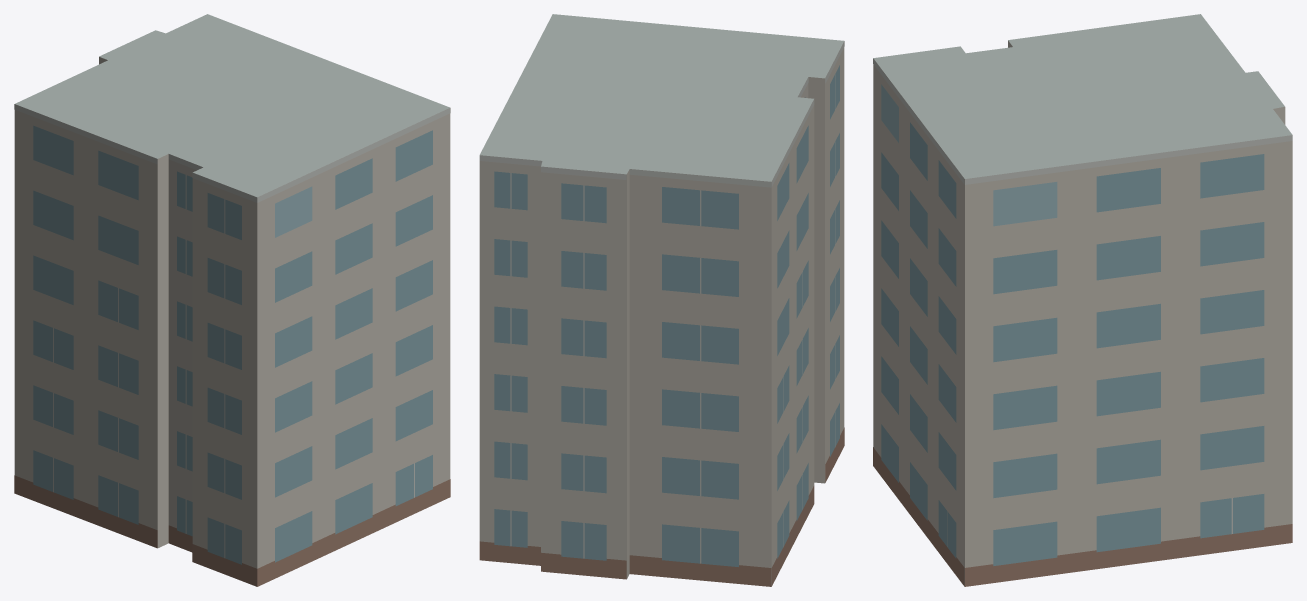
The model's file is survey-upis-32612759.glb.
The picture shows the model from 3 angles, left to right: view 1: azimuth 30°, elevation 25°; view 2: azimuth 150°, elevation 25°; view 3: azimuth 270°, elevation 25°; orthographic projection. The views are drawn at different scales.
Visible parts, largest first — view 1: survey-upis-32612759.tmp; view 2: survey-upis-32612759.tmp; view 3: survey-upis-32612759.tmp.
Part boxes in pixels (x1,y1,x2,y2): survey-upis-32612759.tmp: (14, 14, 450, 586); survey-upis-32612759.tmp: (479, 14, 844, 586); survey-upis-32612759.tmp: (873, 14, 1292, 586).
Bounding box in the file's own units: 14.77 × 17 × 15.86.
